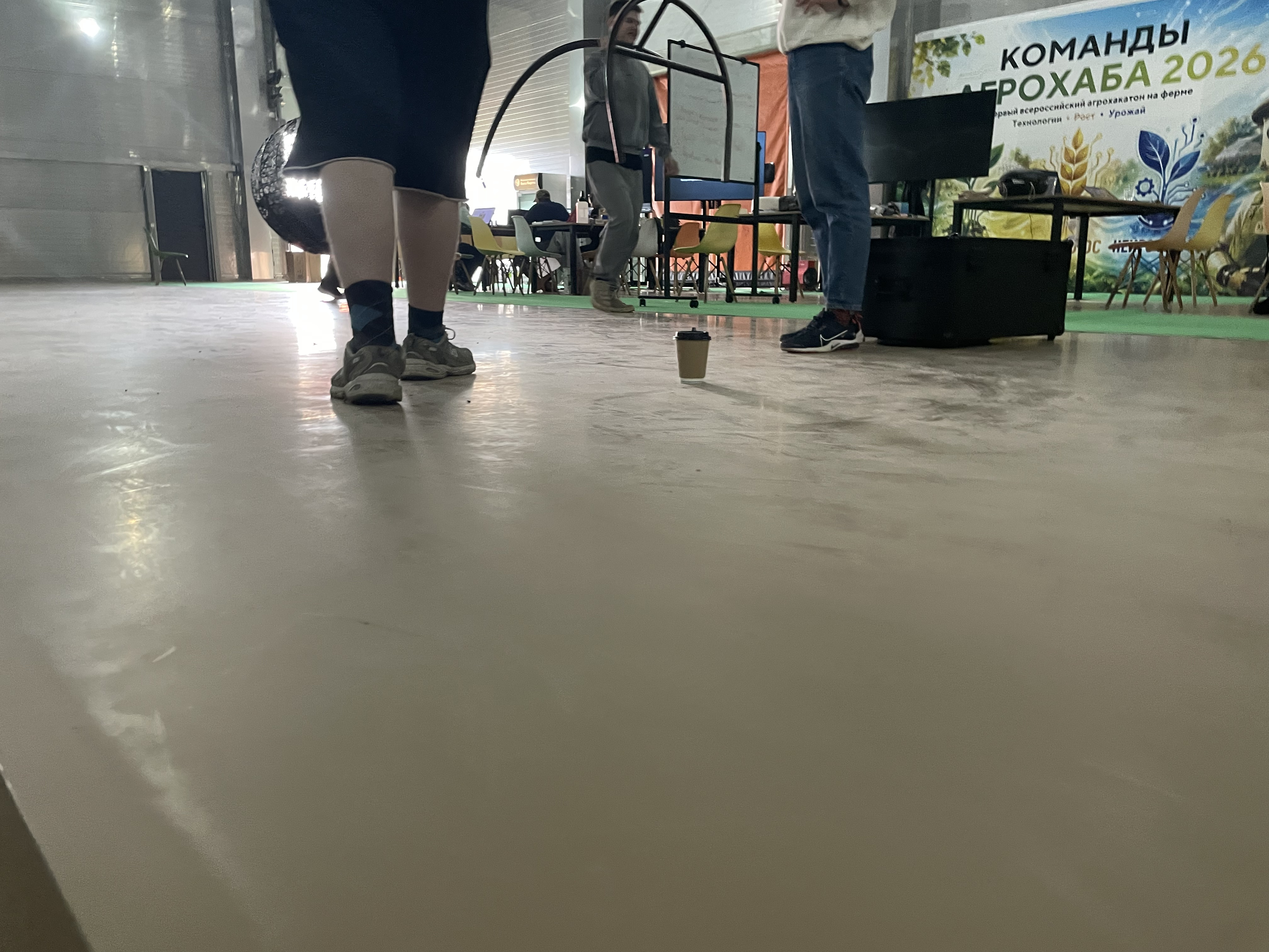cup: (673, 327, 711, 384)
